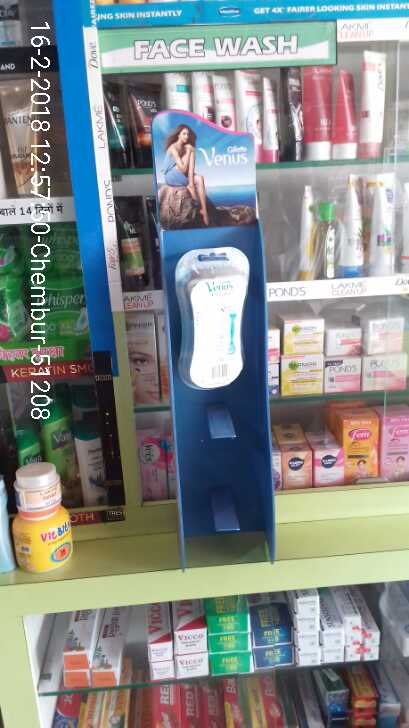reject: (188, 466, 246, 509)
